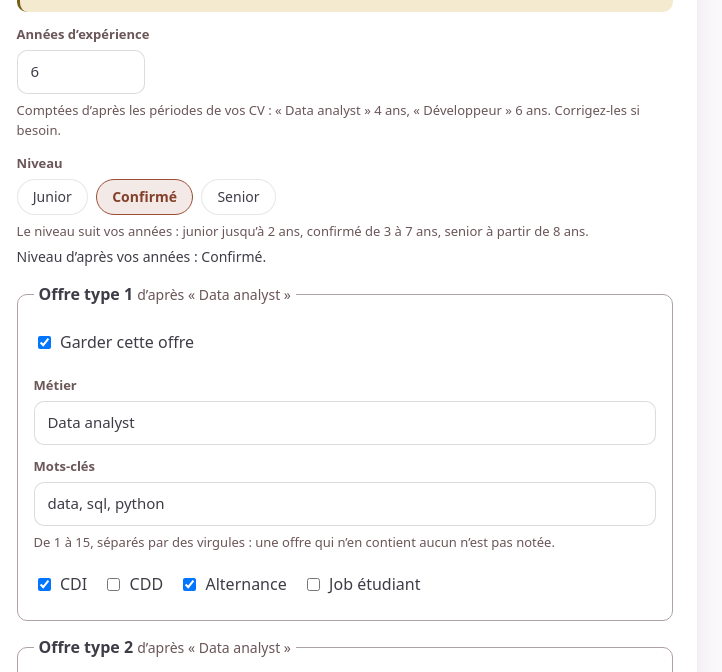
it: WatchSettings — the deduced profile to validate (EF-VEI-43 to EF-VEI-47) › [EF-VEI-45] keeps the first five offers when the CV types propose more, and lets the candidate choose
The image size is (722, 672).
(page scrolled)
Click the 1st checkbox labelled "Garder cette offre".
click(44, 342)  # box x1=38 y1=336 x2=51 y2=349
(page scrolled)
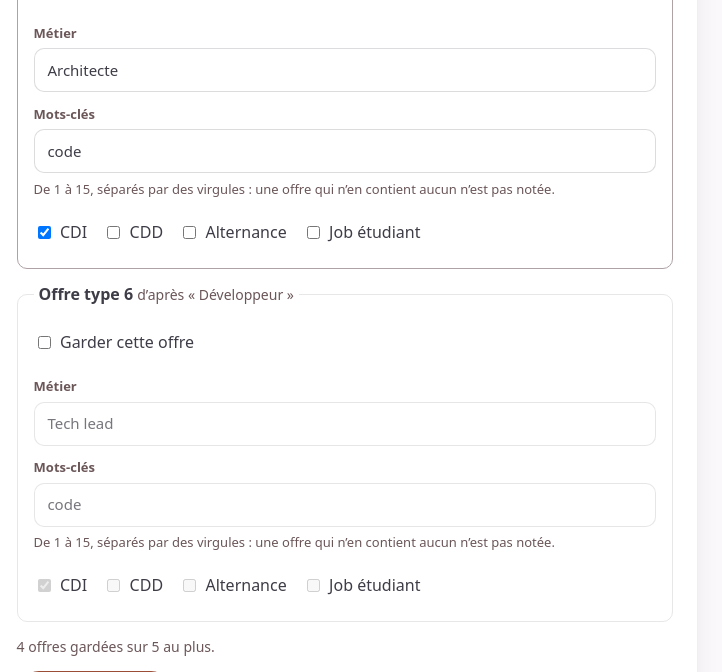
Expected: the text "4 offres gardées sur 5 au plus." is shown, x1=17 y1=637 x2=215 y2=656
